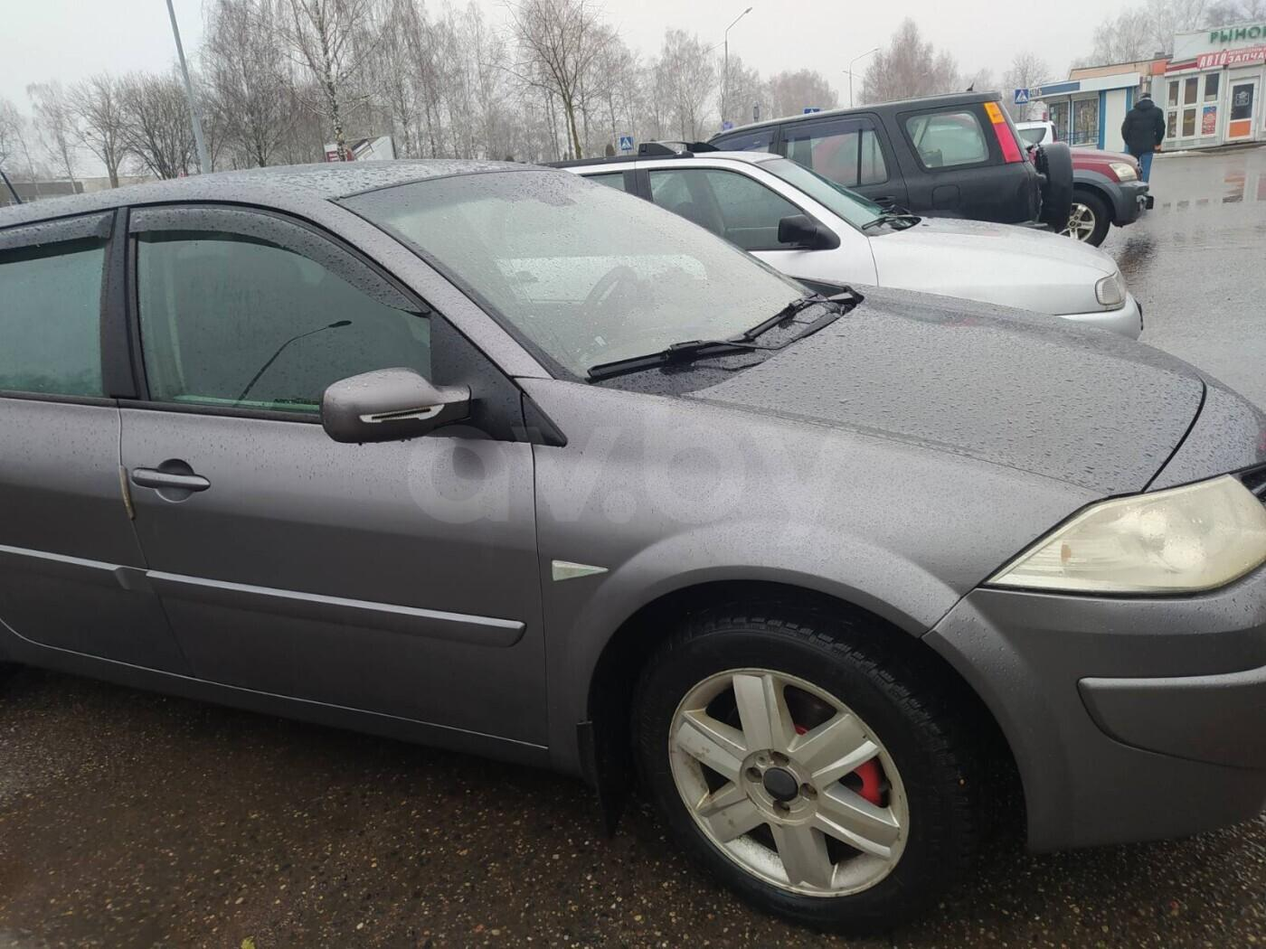Megane_2005-2009: (0, 150, 1266, 937)
